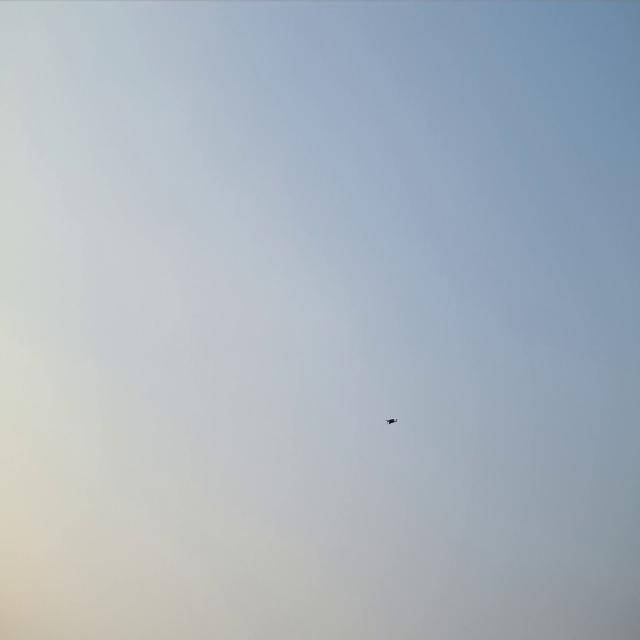UAV: (384, 414, 399, 428)
